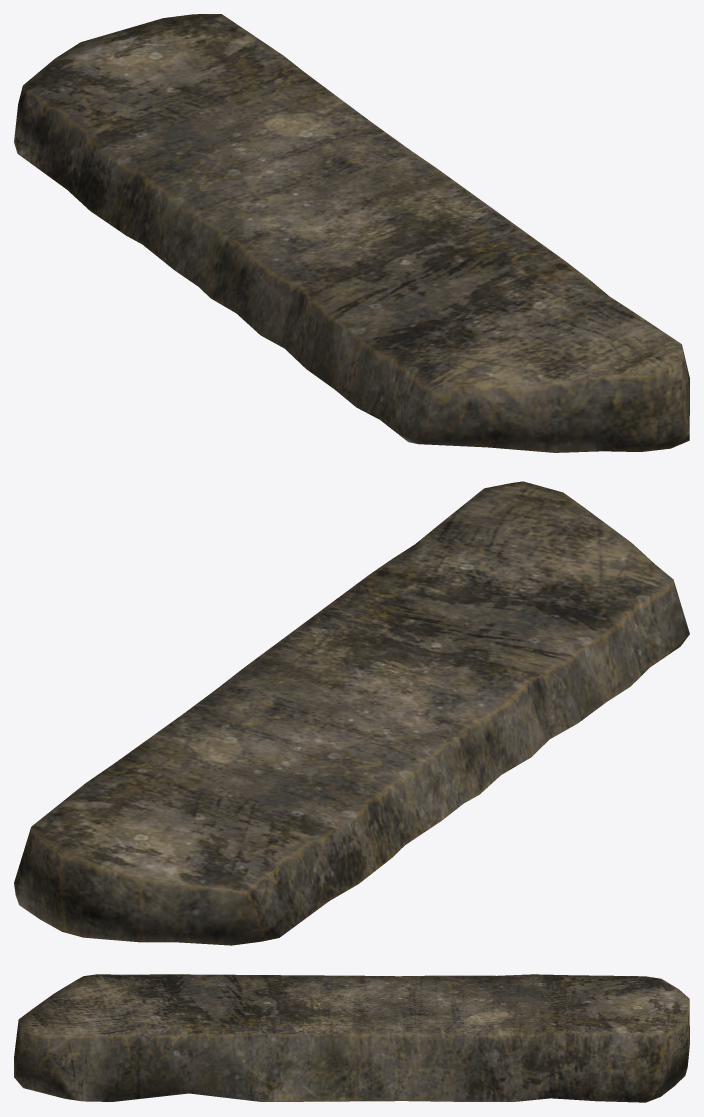
Rendered from FlatRock_03.fbx.
The picture shows the model from 3 angles, top to bottom: view 1: azimuth 30°, elevation 25°; view 2: azimuth 150°, elevation 25°; view 3: azimuth 270°, elevation 25°; orthographic projection. The views are drawn at different scales.
Visible parts, largest first — view 1: FlatRock_03; view 2: FlatRock_03; view 3: FlatRock_03.
Part boxes in pixels (x1,y1,x2,y2): FlatRock_03: (14, 14, 689, 452); FlatRock_03: (14, 481, 689, 945); FlatRock_03: (14, 974, 689, 1102).
Bounding box in the file's own units: 0.2426 × 0.0791 × 0.8.
Materials: 1 (1 with a texture image).
